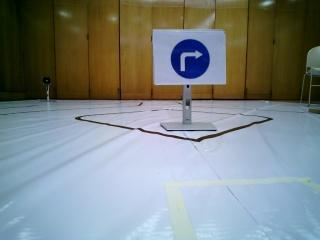right: (151, 29, 226, 84)
